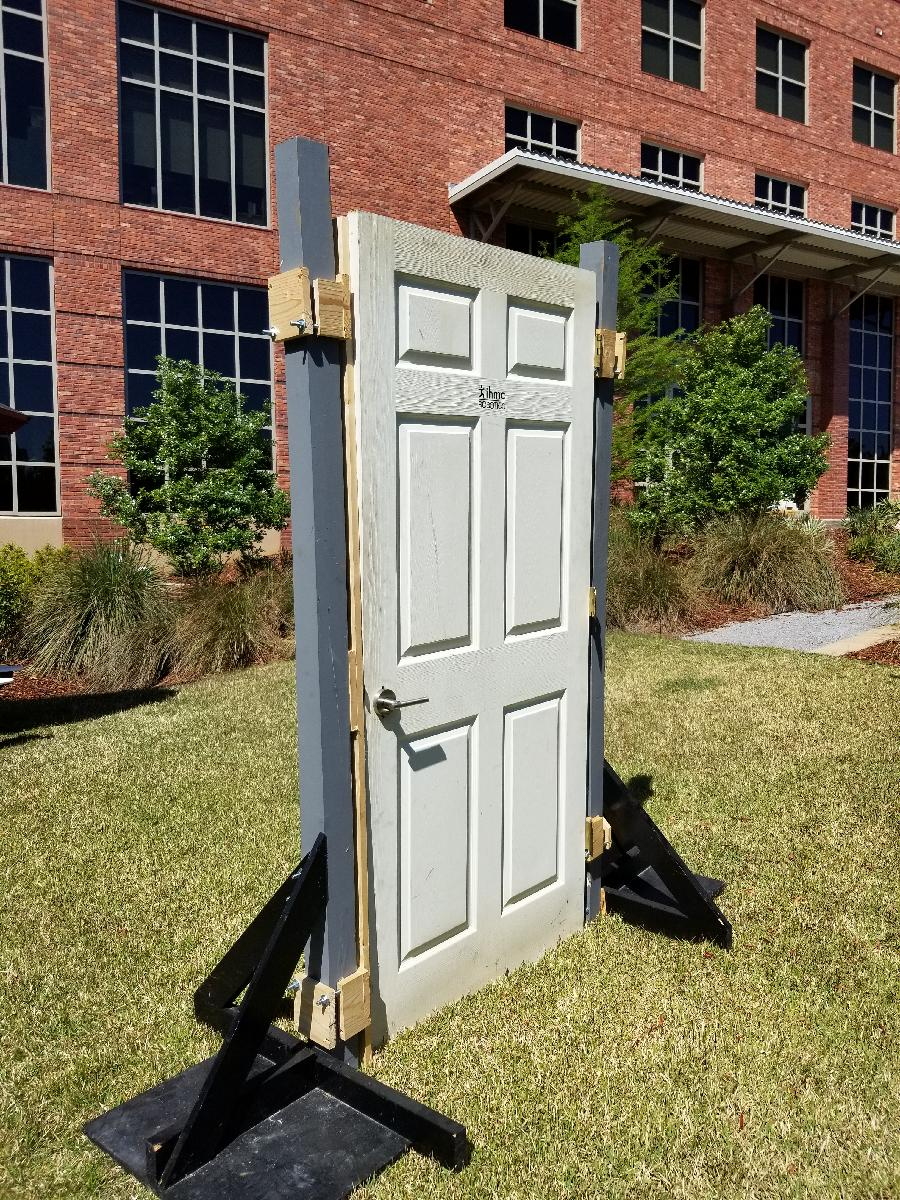door: (341, 205, 597, 1061)
doorHandle: (373, 685, 436, 727)
